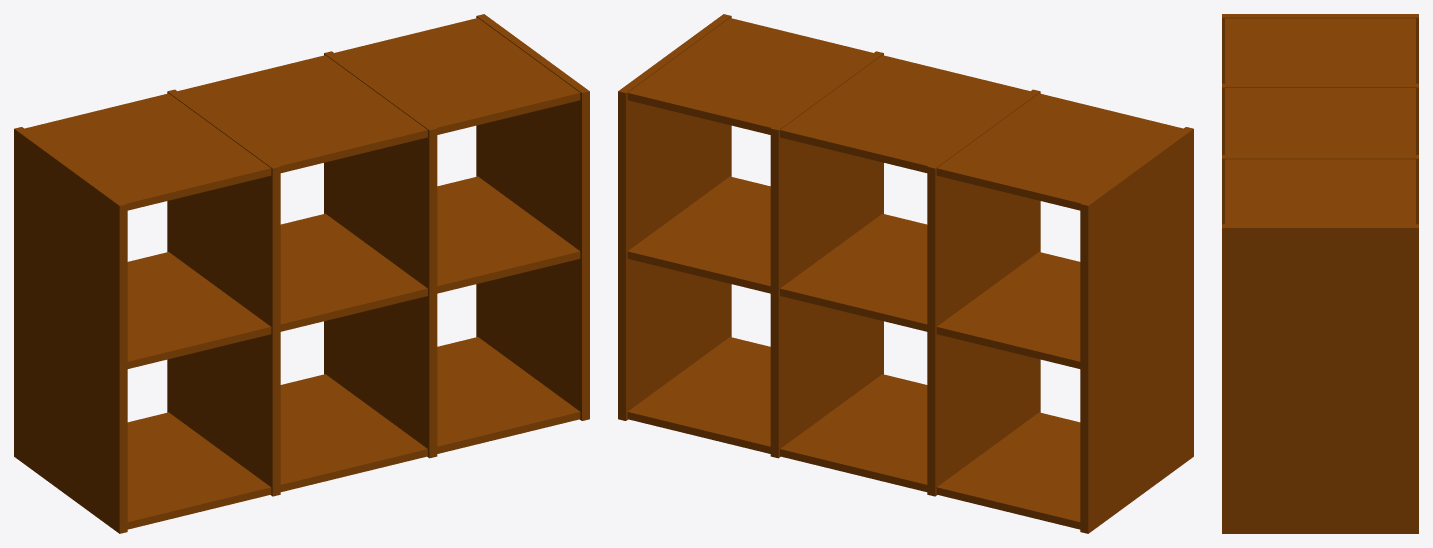
Rendered from FreeBox-6.fbx.
3 renders of one model, left to right at view 1: azimuth 30°, elevation 25°; view 2: azimuth 150°, elevation 25°; view 3: azimuth 270°, elevation 25°, orthographic. The views are drawn at different scales.
Parts seen in each view (by area): view 1: FreeBox-6; view 2: FreeBox-6; view 3: FreeBox-6.
Boxes of the visible parts, box(x1,y1,x2,y2) form: FreeBox-6: box(14, 14, 589, 533); FreeBox-6: box(618, 14, 1193, 533); FreeBox-6: box(1222, 14, 1418, 533).
Size of the model in its own units: 1.08 by 0.72 by 0.42.
